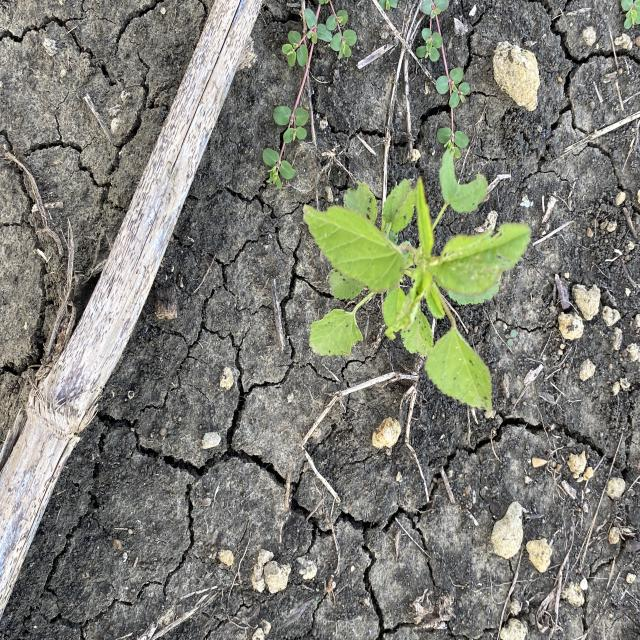PricklySida: (300, 171, 534, 420)
SpottedSpurge: (262, 2, 472, 192)
